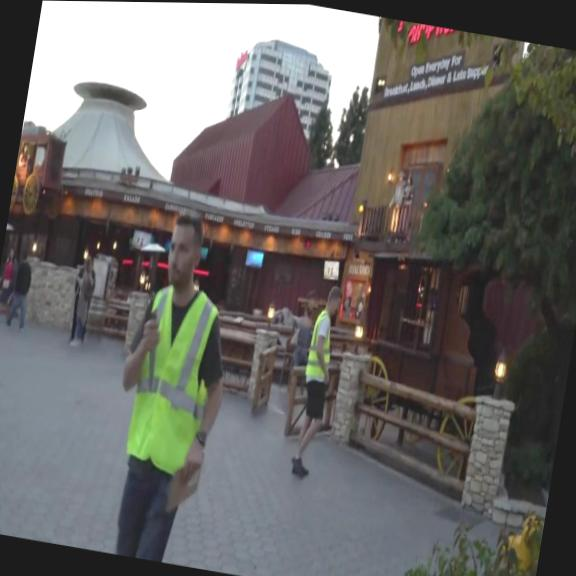safety_vest: (124, 279, 224, 478), (304, 310, 338, 385)
